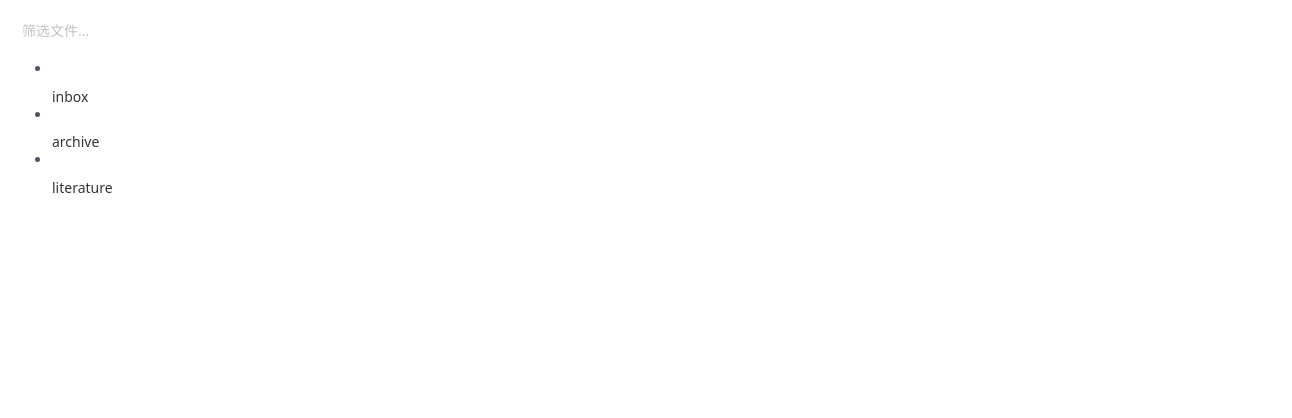
Test: Files filter › a bare `#` shows the full tree (no silent literal-`#` filter) (P1.3)
The width and height of the screenshot is (1292, 418).
Type "#" into the field with class "search-input" at (652, 30), box [22, 16, 1282, 44]
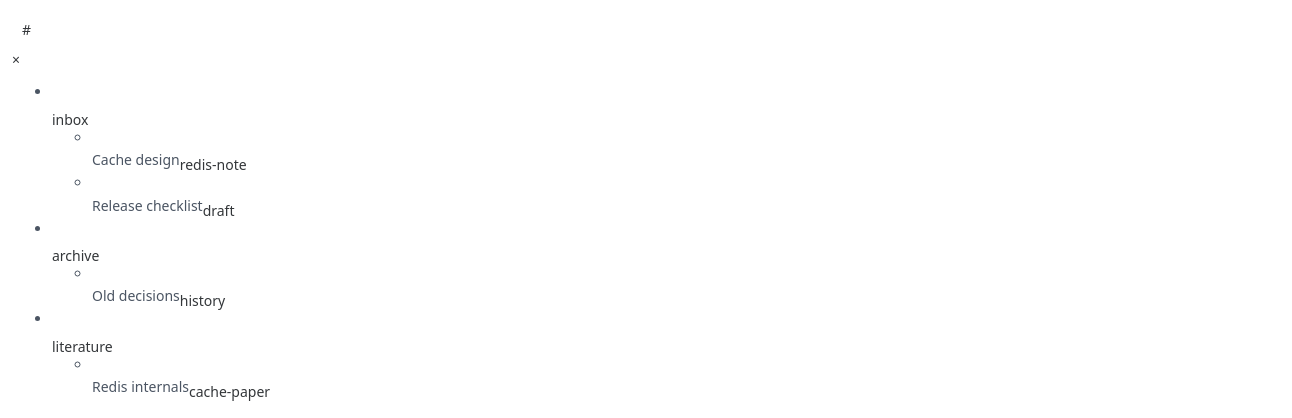
Expected: the list item with class "tree-row" showing "Cache design redis-note" is shown, [92, 150, 247, 172]
Expected: the list item with class "tree-row" showing "Release checklist draft" is shown, [92, 196, 234, 218]
Expected: the list item with class "tree-row" showing "Redis internals cache-paper" is shown, [92, 377, 270, 399]
